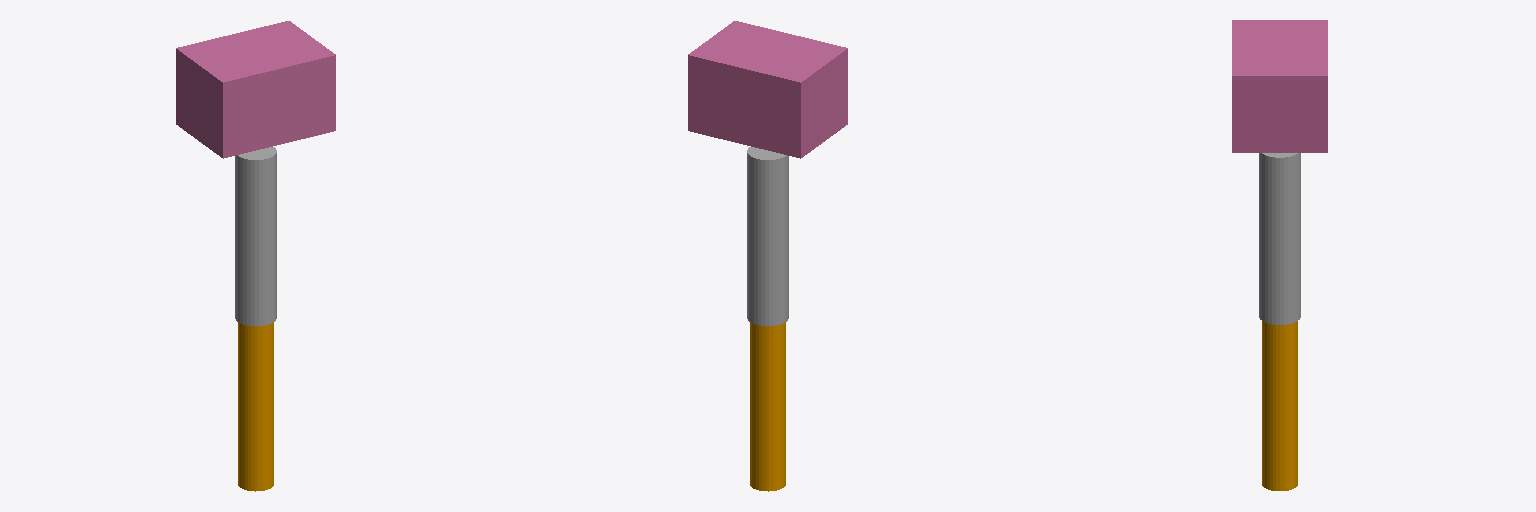
URDF robot description (monoped_3d):
<?xml version="1.0"?>
<!-- 3D monoped: 6-DoF floating base (frax prismatic + RPY chain) + hip + knee -->
<robot name="monoped_3d">
  <link name="world">
    <inertial>
      <mass value="0"/>
      <inertia ixx="0" ixy="0" ixz="0" iyy="0" iyz="0" izz="0"/>
    </inertial>
  </link>

  <joint name="x_prismatic" type="prismatic">
    <parent link="world"/>
    <child link="x_link"/>
    <origin xyz="0 0 0" rpy="0 0 0"/>
    <axis xyz="1 0 0"/>
    <limit lower="-1.5" upper="1.5" effort="0" velocity="3.0"/>
  </joint>
  <link name="x_link">
    <inertial><mass value="0"/><inertia ixx="0" ixy="0" ixz="0" iyy="0" iyz="0" izz="0"/></inertial>
  </link>

  <joint name="y_prismatic" type="prismatic">
    <parent link="x_link"/>
    <child link="y_link"/>
    <origin xyz="0 0 0" rpy="0 0 0"/>
    <axis xyz="0 1 0"/>
    <limit lower="-1.0" upper="1.0" effort="0" velocity="3.0"/>
  </joint>
  <link name="y_link">
    <inertial><mass value="0"/><inertia ixx="0" ixy="0" ixz="0" iyy="0" iyz="0" izz="0"/></inertial>
  </link>

  <joint name="z_prismatic" type="prismatic">
    <parent link="y_link"/>
    <child link="z_link"/>
    <origin xyz="0 0 0" rpy="0 0 0"/>
    <axis xyz="0 0 1"/>
    <limit lower="0.40" upper="1.40" effort="0" velocity="4.0"/>
  </joint>
  <link name="z_link">
    <inertial><mass value="0"/><inertia ixx="0" ixz="0" ixy="0" iyy="0" iyz="0" izz="0"/></inertial>
  </link>

  <joint name="roll_joint" type="revolute">
    <parent link="z_link"/>
    <child link="roll_link"/>
    <origin xyz="0 0 0" rpy="0 0 0"/>
    <axis xyz="1 0 0"/>
    <limit lower="-3.14159" upper="3.14159" effort="0" velocity="8.0"/>
  </joint>
  <link name="roll_link">
    <inertial><mass value="0"/><inertia ixx="0" ixy="0" ixz="0" iyy="0" iyz="0" izz="0"/></inertial>
  </link>

  <joint name="pitch_joint" type="revolute">
    <parent link="roll_link"/>
    <child link="pitch_link"/>
    <origin xyz="0 0 0" rpy="0 0 0"/>
    <axis xyz="0 1 0"/>
    <limit lower="-3.14159" upper="3.14159" effort="0" velocity="8.0"/>
  </joint>
  <link name="pitch_link">
    <inertial><mass value="0"/><inertia ixx="0" ixy="0" ixz="0" iyy="0" iyz="0" izz="0"/></inertial>
  </link>

  <joint name="yaw_joint" type="revolute">
    <parent link="pitch_link"/>
    <child link="torso"/>
    <origin xyz="0 0 0" rpy="0 0 0"/>
    <axis xyz="0 0 1"/>
    <limit lower="-3.14159" upper="3.14159" effort="0" velocity="8.0"/>
  </joint>

  <link name="torso">
    <inertial>
      <origin xyz="0 0 0.05" rpy="0 0 0"/>
      <mass value="8.0"/>
      <inertia ixx="0.08" ixy="0" ixz="0" iyy="0.08" iyz="0" izz="0.05"/>
    </inertial>
    <visual>
      <origin xyz="0 0 0.08" rpy="0 0 0"/>
      <geometry><box size="0.25 0.18 0.16"/></geometry>
    </visual>
  </link>

  <joint name="hip_joint" type="revolute">
    <parent link="torso"/>
    <child link="thigh"/>
    <origin xyz="0 0 -0.05" rpy="0 0 0"/>
    <axis xyz="0 1 0"/>
    <!-- Hip pitch: extension (negative) to flexion (positive) for jump crouch -->
    <limit lower="-1.85" upper="0.95" effort="120" velocity="14"/>
  </joint>
  <link name="thigh">
    <inertial>
      <origin xyz="0 0 -0.175" rpy="0 0 0"/>
      <mass value="2.5"/>
      <inertia ixx="0.03" ixy="0" ixz="0" iyy="0.03" iyz="0" izz="0.005"/>
    </inertial>
    <visual>
      <origin xyz="0 0 -0.175" rpy="0 0 0"/>
      <geometry><cylinder radius="0.04" length="0.35"/></geometry>
    </visual>
  </link>

  <joint name="knee_joint" type="revolute">
    <parent link="thigh"/>
    <child link="shank"/>
    <origin xyz="0 0 -0.35" rpy="0 0 0"/>
    <axis xyz="0 1 0"/>
    <!-- Knee: 0 = full extension, ~2.1 = deep crouch -->
    <limit lower="0.0" upper="2.15" effort="120" velocity="14"/>
  </joint>
  <link name="shank">
    <inertial>
      <origin xyz="0 0 -0.175" rpy="0 0 0"/>
      <mass value="1.2"/>
      <inertia ixx="0.015" ixy="0" ixz="0" iyy="0.015" iyz="0" izz="0.003"/>
    </inertial>
    <visual>
      <origin xyz="0 0 -0.175" rpy="0 0 0"/>
      <geometry><cylinder radius="0.035" length="0.35"/></geometry>
    </visual>
  </link>
</robot>

--- Facts derived from the render (not from the file) ---
The picture shows the robot from 3 angles, left to right: view 1: azimuth 30°, elevation 25°; view 2: azimuth 150°, elevation 25°; view 3: azimuth 270°, elevation 25°; orthographic projection.
Model monoped_3d with 9 links and 8 joints (5 revolute, 3 prismatic), rooted at world, posed joints at zero except 1 at the middle of their limits (z_prismatic = 0.9).
Links seen in each view (by area): view 1: torso, thigh, shank; view 2: torso, thigh, shank; view 3: torso, thigh, shank.
Link boxes in pixels (x1,y1,x2,y2): torso: (176, 21, 335, 158); thigh: (235, 147, 276, 325); shank: (238, 322, 273, 491); torso: (688, 21, 847, 158); thigh: (747, 147, 788, 325); shank: (750, 322, 785, 491); torso: (1232, 20, 1327, 152); thigh: (1259, 153, 1300, 324); shank: (1262, 321, 1297, 490).
Bounding box of the posed robot: 0.25 × 0.18 × 0.91 m (x, y, z).
Geometry: primitives only (box / cylinder / sphere), no mesh files.
